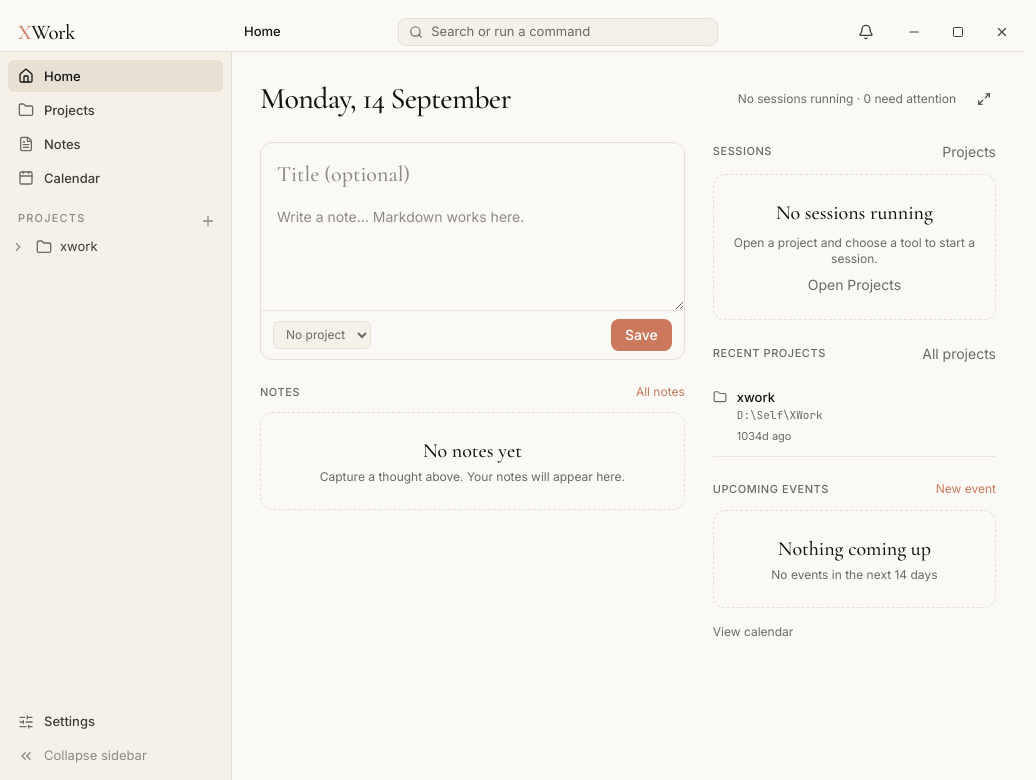
it: AppTopbar context › updates the breadcrumb when the route changes
Expected: the list named "Breadcrumb" reads "Home", [244, 23, 281, 39]
Click the link "Calendar".
click(59, 178)  # box [18, 170, 100, 186]
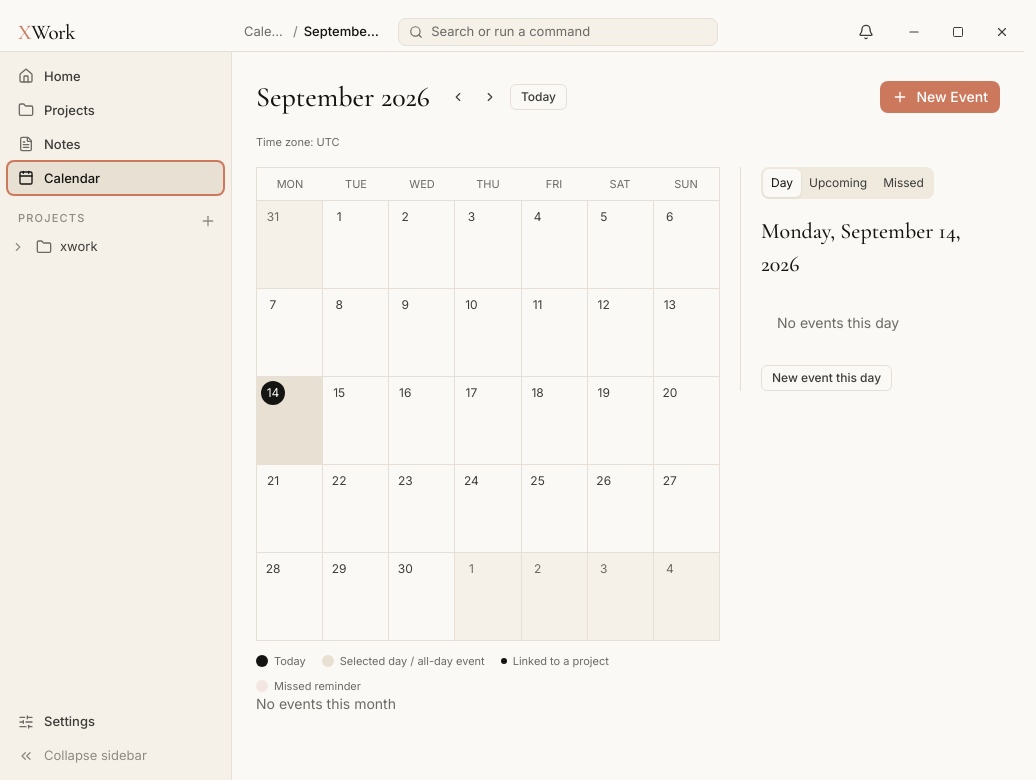
Expected: the list named "Breadcrumb" shows "Calendar", [244, 23, 299, 39]
